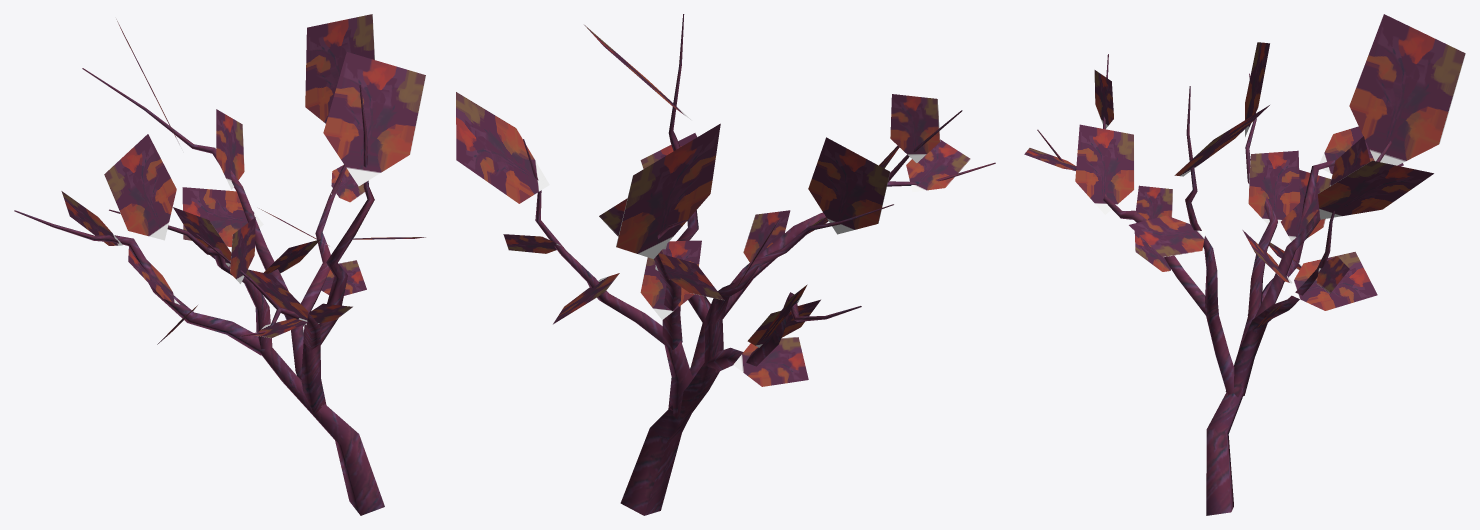
File: Tree_01.fbx
3 views of the same model, side by side, from view 1: azimuth 30°, elevation 25°; view 2: azimuth 150°, elevation 25°; view 3: azimuth 270°, elevation 25° (orthographic). The views are drawn at different scales.
Visible parts, largest first — view 1: tree.002, Plane.020, Plane.025, Plane.026, Plane.016, Plane.014, Plane.009, Plane.007, Plane.013, Plane.011, Plane.024, Plane.023 (+4 smaller); view 2: tree.002, Plane.015, Plane.026, Plane.025, Plane.009, Plane.012, Plane.008, Plane.023, Plane.016, Plane.021, Plane.010, Plane.018 (+1 smaller); view 3: tree.002, Plane.015, Plane.007, Plane.026, Plane.013, Plane.017, Plane.019, Plane.010, Plane.022, Plane.025, Plane.020, Plane.011 (+4 smaller).
Boxes of the visible parts, left/top/right/bottom form: tree.002: left=14, top=68, right=384, bottom=515; Plane.020: left=323, top=52, right=425, bottom=186; Plane.025: left=104, top=134, right=176, bottom=240; Plane.026: left=305, top=14, right=374, bottom=123; Plane.016: left=182, top=187, right=263, bottom=247; Plane.014: left=216, top=109, right=244, bottom=189; Plane.009: left=230, top=217, right=255, bottom=283; Plane.007: left=246, top=269, right=308, bottom=324; Plane.013: left=173, top=207, right=231, bottom=266; Plane.011: left=61, top=191, right=122, bottom=245; Plane.024: left=321, top=260, right=366, bottom=295; Plane.023: left=263, top=239, right=320, bottom=273; tree.002: left=523, top=14, right=995, bottom=515; Plane.015: left=616, top=123, right=720, bottom=258; Plane.026: left=456, top=92, right=549, bottom=203; Plane.025: left=808, top=137, right=889, bottom=234; Plane.009: left=890, top=94, right=940, bottom=162; Plane.012: left=733, top=337, right=808, bottom=386; Plane.008: left=906, top=139, right=970, bottom=192; Plane.023: left=640, top=240, right=701, bottom=319; Plane.016: left=655, top=253, right=724, bottom=300; Plane.021: left=743, top=210, right=790, bottom=262; Plane.010: left=747, top=299, right=820, bottom=347; Plane.018: left=503, top=234, right=560, bottom=253; tree.002: left=1037, top=54, right=1391, bottom=515; Plane.015: left=1349, top=14, right=1465, bottom=165; Plane.007: left=1075, top=124, right=1134, bottom=214; Plane.026: left=1317, top=160, right=1433, bottom=219; Plane.013: left=1248, top=150, right=1299, bottom=224; Plane.017: left=1287, top=251, right=1377, bottom=310; Plane.019: left=1129, top=215, right=1205, bottom=257; Plane.010: left=1281, top=170, right=1331, bottom=241; Plane.022: left=1136, top=185, right=1172, bottom=220; Plane.025: left=1245, top=42, right=1269, bottom=136; Plane.020: left=1174, top=105, right=1269, bottom=176; Plane.011: left=1319, top=126, right=1403, bottom=173.
Bounding box in the file's own units: 7.19 × 8.57 × 8.01.
